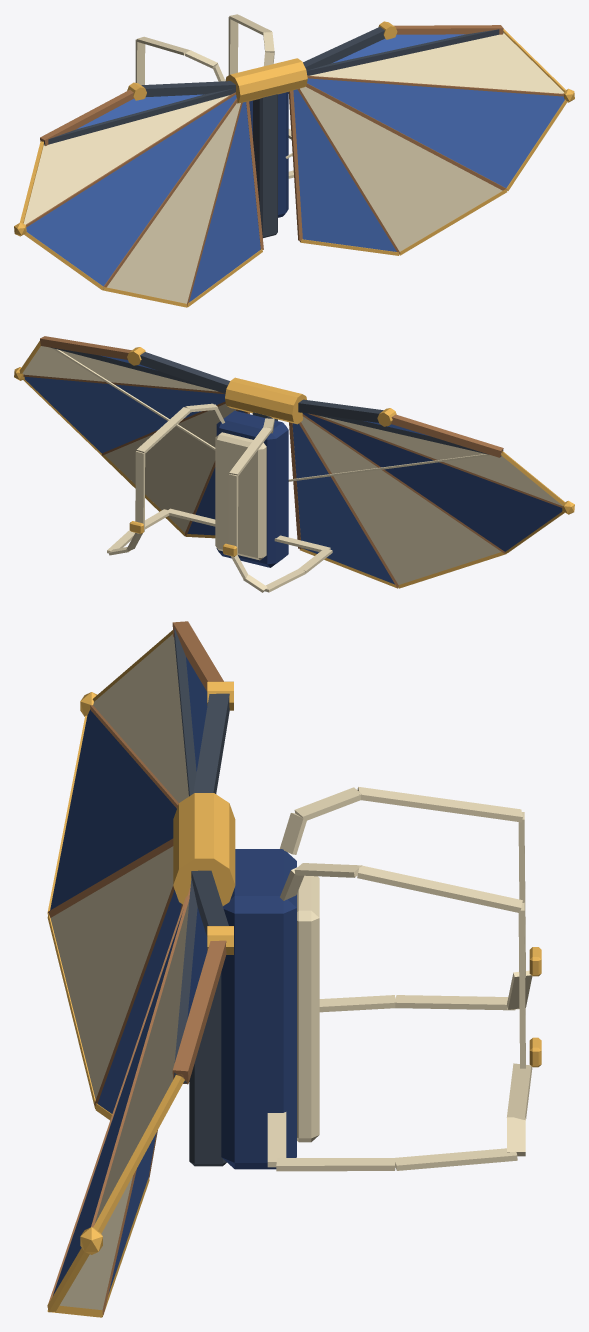
Rendered from itm_glider_cape.glb.
3 views of the same model, one above another, from view 1: azimuth 30°, elevation 25°; view 2: azimuth 150°, elevation 25°; view 3: azimuth 270°, elevation 25° (orthographic). The views are drawn at different scales.
Visible parts, largest first — view 1: itm_glider_cape, itm_glider_cape__hinge_spine, itm_glider_cape__deployment_hinge, itm_glider_cape__back_harness, itm_glider_cape__leading_spar_left, itm_glider_cape__leading_spar_right, itm_glider_cape__leading_extension_right, itm_glider_cape__leading_extension_left, itm_glider_cape__final_radial_rib_left, itm_glider_cape__final_radial_rib_right; view 2: itm_glider_cape, itm_glider_cape__harness_cushion, itm_glider_cape__back_harness, itm_glider_cape__deployment_hinge, itm_glider_cape__leading_spar_left, itm_glider_cape__leading_extension_right, itm_glider_cape__leading_spar_right, itm_glider_cape__leading_extension_left, itm_glider_cape__tension_wire_right, itm_glider_cape__tension_wire_left, itm_glider_cape__final_radial_rib_right; view 3: itm_glider_cape, itm_glider_cape__back_harness, itm_glider_cape__harness_cushion, itm_glider_cape__deployment_hinge, itm_glider_cape__hinge_spine, itm_glider_cape__leading_extension_left, itm_glider_cape__leading_spar_right, itm_glider_cape__leading_spar_left, itm_glider_cape__leading_extension_right.
Part boxes in pixels (x1,y1,x2,y2): itm_glider_cape: (20, 14, 567, 307); itm_glider_cape__hinge_spine: (253, 94, 277, 237); itm_glider_cape__deployment_hinge: (225, 58, 307, 103); itm_glider_cape__back_harness: (249, 92, 288, 217); itm_glider_cape__leading_spar_left: (303, 27, 384, 70); itm_glider_cape__leading_spar_right: (141, 81, 235, 96); itm_glider_cape__leading_extension_right: (40, 90, 133, 145); itm_glider_cape__leading_extension_left: (394, 25, 503, 34); itm_glider_cape__final_radial_rib_left: (288, 90, 302, 240); itm_glider_cape__final_radial_rib_right: (246, 101, 263, 249); itm_glider_cape: (19, 341, 565, 592); itm_glider_cape__harness_cushion: (215, 432, 266, 560); itm_glider_cape__back_harness: (216, 410, 288, 567); itm_glider_cape__deployment_hinge: (225, 377, 306, 424); itm_glider_cape__leading_spar_left: (140, 352, 229, 393); itm_glider_cape__leading_extension_right: (391, 414, 503, 457); itm_glider_cape__leading_spar_right: (298, 399, 383, 422); itm_glider_cape__leading_extension_left: (40, 336, 131, 359); itm_glider_cape__tension_wire_right: (288, 454, 490, 481); itm_glider_cape__tension_wire_left: (52, 348, 215, 450); itm_glider_cape__final_radial_rib_right: (289, 422, 301, 548); itm_glider_cape: (47, 628, 532, 1317); itm_glider_cape__back_harness: (221, 849, 296, 1169); itm_glider_cape__harness_cushion: (297, 875, 319, 1142); itm_glider_cape__deployment_hinge: (173, 793, 235, 905); itm_glider_cape__hinge_spine: (189, 973, 226, 1166); itm_glider_cape__leading_extension_left: (172, 940, 226, 1084); itm_glider_cape__leading_spar_right: (193, 693, 229, 793); itm_glider_cape__leading_spar_left: (191, 870, 228, 936); itm_glider_cape__leading_extension_right: (172, 621, 223, 691).
Bounding box in the file's own units: 1.74 × 0.6088 × 0.6666.
